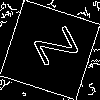Z: (25, 25, 79, 73)
